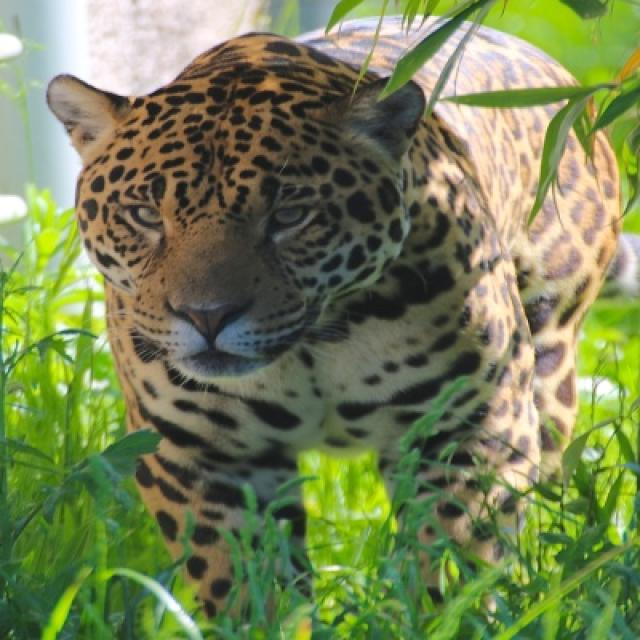Jaguar: (45, 21, 622, 621)
